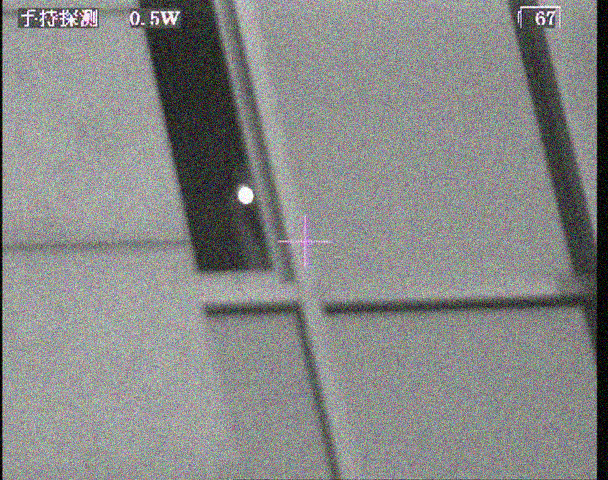my: (236, 185, 254, 205)
